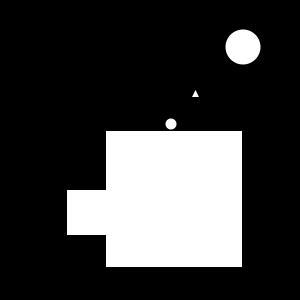circle: (106, 131, 242, 267), (67, 190, 112, 235)
rectangle: (226, 30, 260, 65), (166, 118, 176, 130)
triangle: (192, 90, 199, 97)
